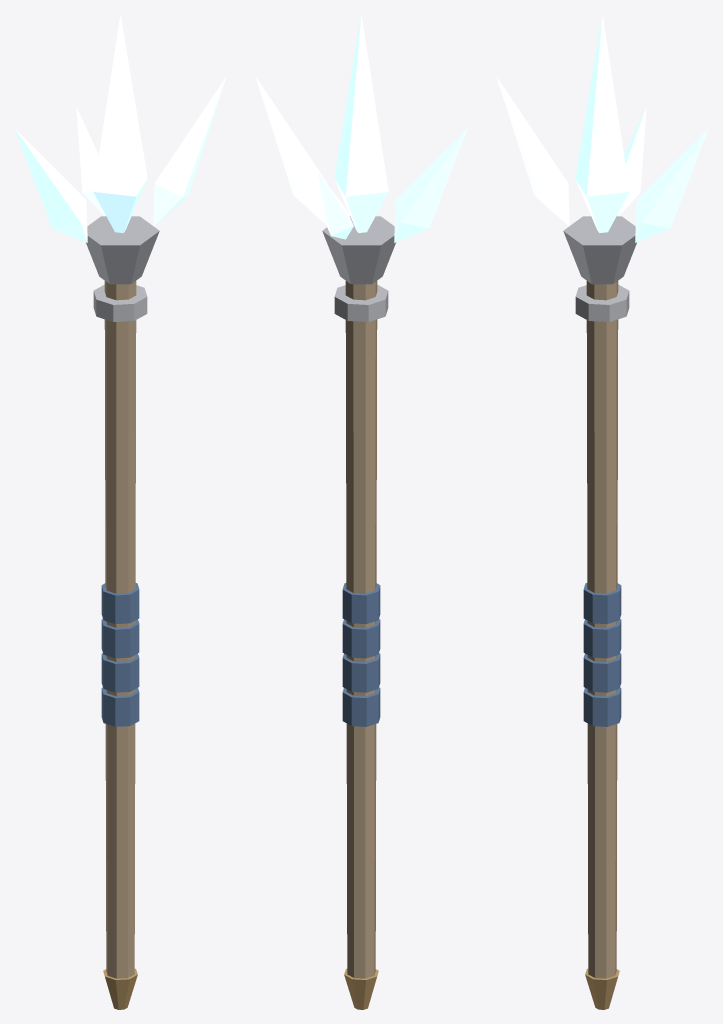
File: baston_hielo.glb
3 renders of one model, left to right at view 1: azimuth 30°, elevation 25°; view 2: azimuth 150°, elevation 25°; view 3: azimuth 330°, elevation 25°, orthographic.
Visible parts, largest first — view 1: baston_hielo; view 2: baston_hielo; view 3: baston_hielo.
Part boxes in pixels (box(x1,y1,x2,y2)): baston_hielo: box(14, 14, 226, 1009); baston_hielo: box(255, 14, 467, 1009); baston_hielo: box(496, 14, 708, 1009).
Size of the model in its own units: 0.3902 by 1.74 by 0.2025.
